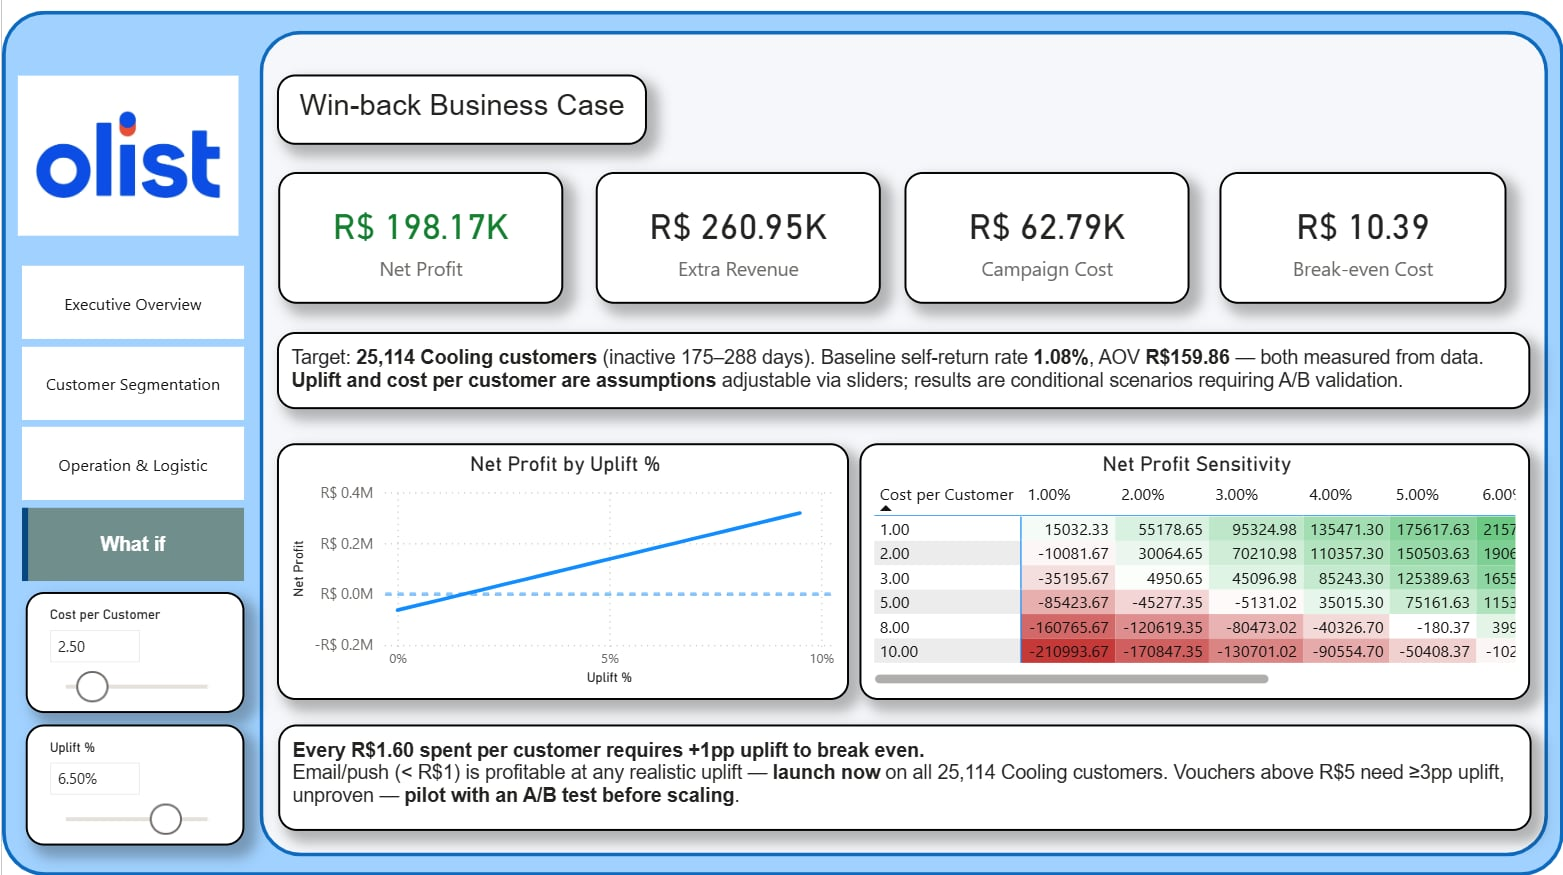

What the dashboard file says about the page in this screenshot:
{"tool":"powerbi","page":{"name":"What if","canvas":[1280,720],"ordinal":3},"visuals":[{"type":"shape","box":[0,10.9,1280,709.1],"z":0},{"type":"shape","box":[211.5,27.4,1056.1,676.7],"z":1000},{"type":"slicer","fields":{"Values":["Cost per Customer.Cost per Customer"]},"box":[19.9,487.6,179.1,99.5],"z":2000},{"type":"slicer","fields":{"Values":["Uplift % .Uplift % "]},"box":[19.9,595.9,179.1,99.5],"z":3000},{"type":"card","fields":{"Values":["_Measures (2).Net Profit"]},"box":[226.4,143.1,233.9,108.2],"z":4000},{"type":"card","fields":{"Values":["_Measures (2).Extra Revenue"]},"box":[486.4,143.1,233.9,108.2],"z":5000},{"type":"card","fields":{"Values":["_Measures (2).Campaign Cost"]},"box":[740.2,143.1,233.9,108.2],"z":6000},{"type":"card","fields":{"Values":["_Measures (2).Break-even Cost"]},"box":[997.7,143.1,235.1,108.2],"z":7000},{"type":"lineChart","fields":{"Y":["_Measures (2).Net Profit"],"Category":["Uplift % .Uplift % "]},"box":[225.2,365.7,469,210.2],"z":8000},{"type":"image","box":[8.7,27.4,190.3,205.3],"z":9000},{"type":"pageNavigator","box":[16.2,220.2,182.9,258.7],"z":10000},{"type":"textbox","box":[225.2,63.4,303.5,57.2],"z":11000},{"type":"textbox","box":[225.2,274.9,1027.5,63.4],"z":12000},{"type":"pivotTable","title":"Net Profit Sensitivity","fields":{"Rows":["Cost per Customer.Cost per Customer"],"Columns":["Uplift % .Uplift % "],"Values":["_Measures (2).Net Profit (matrix)"]},"box":[702.8,365.7,549.8,210.2],"z":13000},{"type":"textbox","box":[226.4,595.9,1027.5,87.1],"z":14000}]}

Visuals, with their boxes in screenshot pixels (x1, y1, x2, y2), scaled from the page's 1280x720 canvas onto the 1563x875 screenshot:
shape: (left=0, top=13, right=1562, bottom=874)
shape: (left=258, top=33, right=1548, bottom=856)
slicer - Cost per Customer.Cost per Customer: (left=24, top=593, right=243, bottom=713)
slicer - Uplift % .Uplift % : (left=24, top=724, right=243, bottom=845)
card - _Measures (2).Net Profit: (left=276, top=174, right=562, bottom=305)
card - _Measures (2).Extra Revenue: (left=594, top=174, right=880, bottom=305)
card - _Measures (2).Campaign Cost: (left=904, top=174, right=1189, bottom=305)
card - _Measures (2).Break-even Cost: (left=1218, top=174, right=1505, bottom=305)
lineChart - _Measures (2).Net Profit x Uplift % .Uplift % : (left=275, top=444, right=848, bottom=700)
image: (left=11, top=33, right=243, bottom=283)
pageNavigator: (left=20, top=268, right=243, bottom=582)
textbox: (left=275, top=77, right=646, bottom=147)
textbox: (left=275, top=334, right=1530, bottom=411)
"Net Profit Sensitivity" pivotTable: (left=858, top=444, right=1530, bottom=700)
textbox: (left=276, top=724, right=1531, bottom=830)
